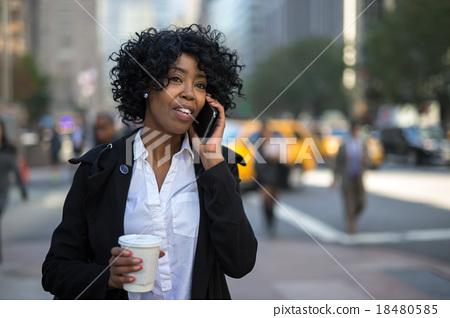talk: (161, 64, 227, 169)
